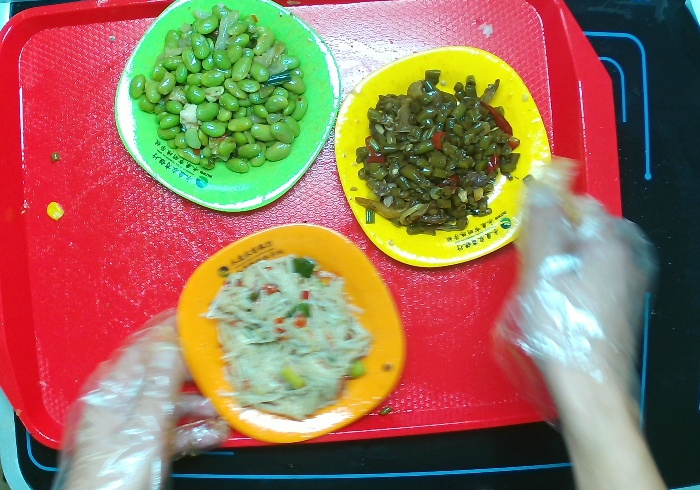YKMZ-Huang_Se_Fang_Die: (331, 46, 552, 274)
YKMZ-Ju_Se_Fang_Die: (171, 223, 408, 444)
YKMZ-Lv_Se_Fang_Die: (112, 1, 339, 214)
